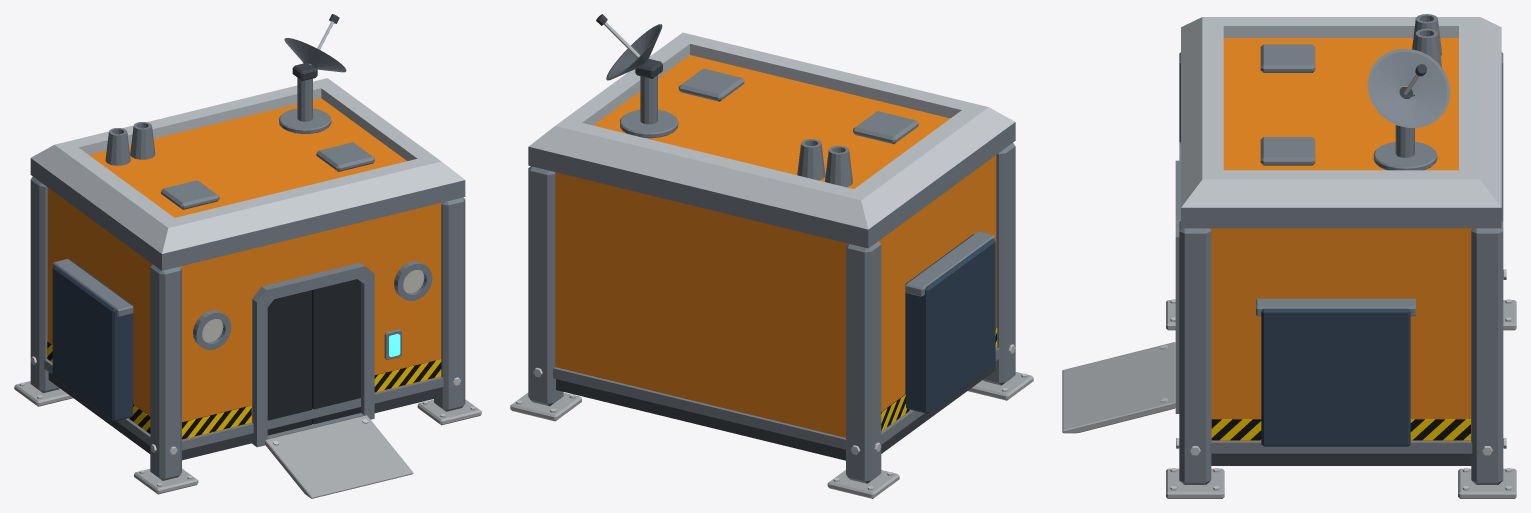
File: base_hall.fbx
3 renders of one model, left to right at view 1: azimuth 30°, elevation 25°; view 2: azimuth 150°, elevation 25°; view 3: azimuth 270°, elevation 25°, orthographic. The views are drawn at different scales.
Visible parts, largest first — view 1: BaseHall_Orange, BaseHall_SteelGrey, BaseHall_SteelLight, BaseHall_Door_DarkGrey, BaseHall_TreadPlate, BaseHall_Slate, BaseHall_SteelDark, BaseHall_Yellow, BaseHall_Black, BaseHall_Glass; view 2: BaseHall_Orange, BaseHall_SteelGrey, BaseHall_SteelLight, BaseHall_Slate, BaseHall_SteelDark, BaseHall_TreadPlate; view 3: BaseHall_Orange, BaseHall_SteelGrey, BaseHall_SteelLight, BaseHall_Slate, BaseHall_TreadPlate, BaseHall_SteelDark, BaseHall_Yellow, BaseHall_Black.
Boxes of the visible parts, <box> form: BaseHall_Orange: <box>47,98,441,439</box>; BaseHall_SteelGrey: <box>30,38,465,480</box>; BaseHall_SteelLight: <box>19,21,476,486</box>; BaseHall_Door_DarkGrey: <box>267,279,360,435</box>; BaseHall_TreadPlate: <box>14,381,481,498</box>; BaseHall_Slate: <box>52,261,133,421</box>; BaseHall_SteelDark: <box>48,14,440,460</box>; BaseHall_Yellow: <box>47,345,441,438</box>; BaseHall_Black: <box>47,341,441,439</box>; BaseHall_Glass: <box>202,270,424,342</box>; BaseHall_Orange: <box>555,55,996,437</box>; BaseHall_SteelGrey: <box>528,24,1015,483</box>; BaseHall_SteelLight: <box>516,22,1027,490</box>; BaseHall_Slate: <box>905,234,995,413</box>; BaseHall_SteelDark: <box>556,14,995,460</box>; BaseHall_TreadPlate: <box>510,372,1033,498</box>; BaseHall_Orange: <box>1210,38,1472,440</box>; BaseHall_SteelGrey: <box>1175,14,1503,484</box>; BaseHall_SteelLight: <box>1160,17,1512,490</box>; BaseHall_Slate: <box>1261,308,1410,446</box>; BaseHall_TreadPlate: <box>1062,300,1516,498</box>; BaseHall_SteelDark: <box>1211,64,1471,465</box>; BaseHall_Yellow: <box>1211,419,1470,440</box>; BaseHall_Black: <box>1211,419,1470,440</box>.
Bounding box in the file's own units: 17.7 × 16.93 × 17.02.
